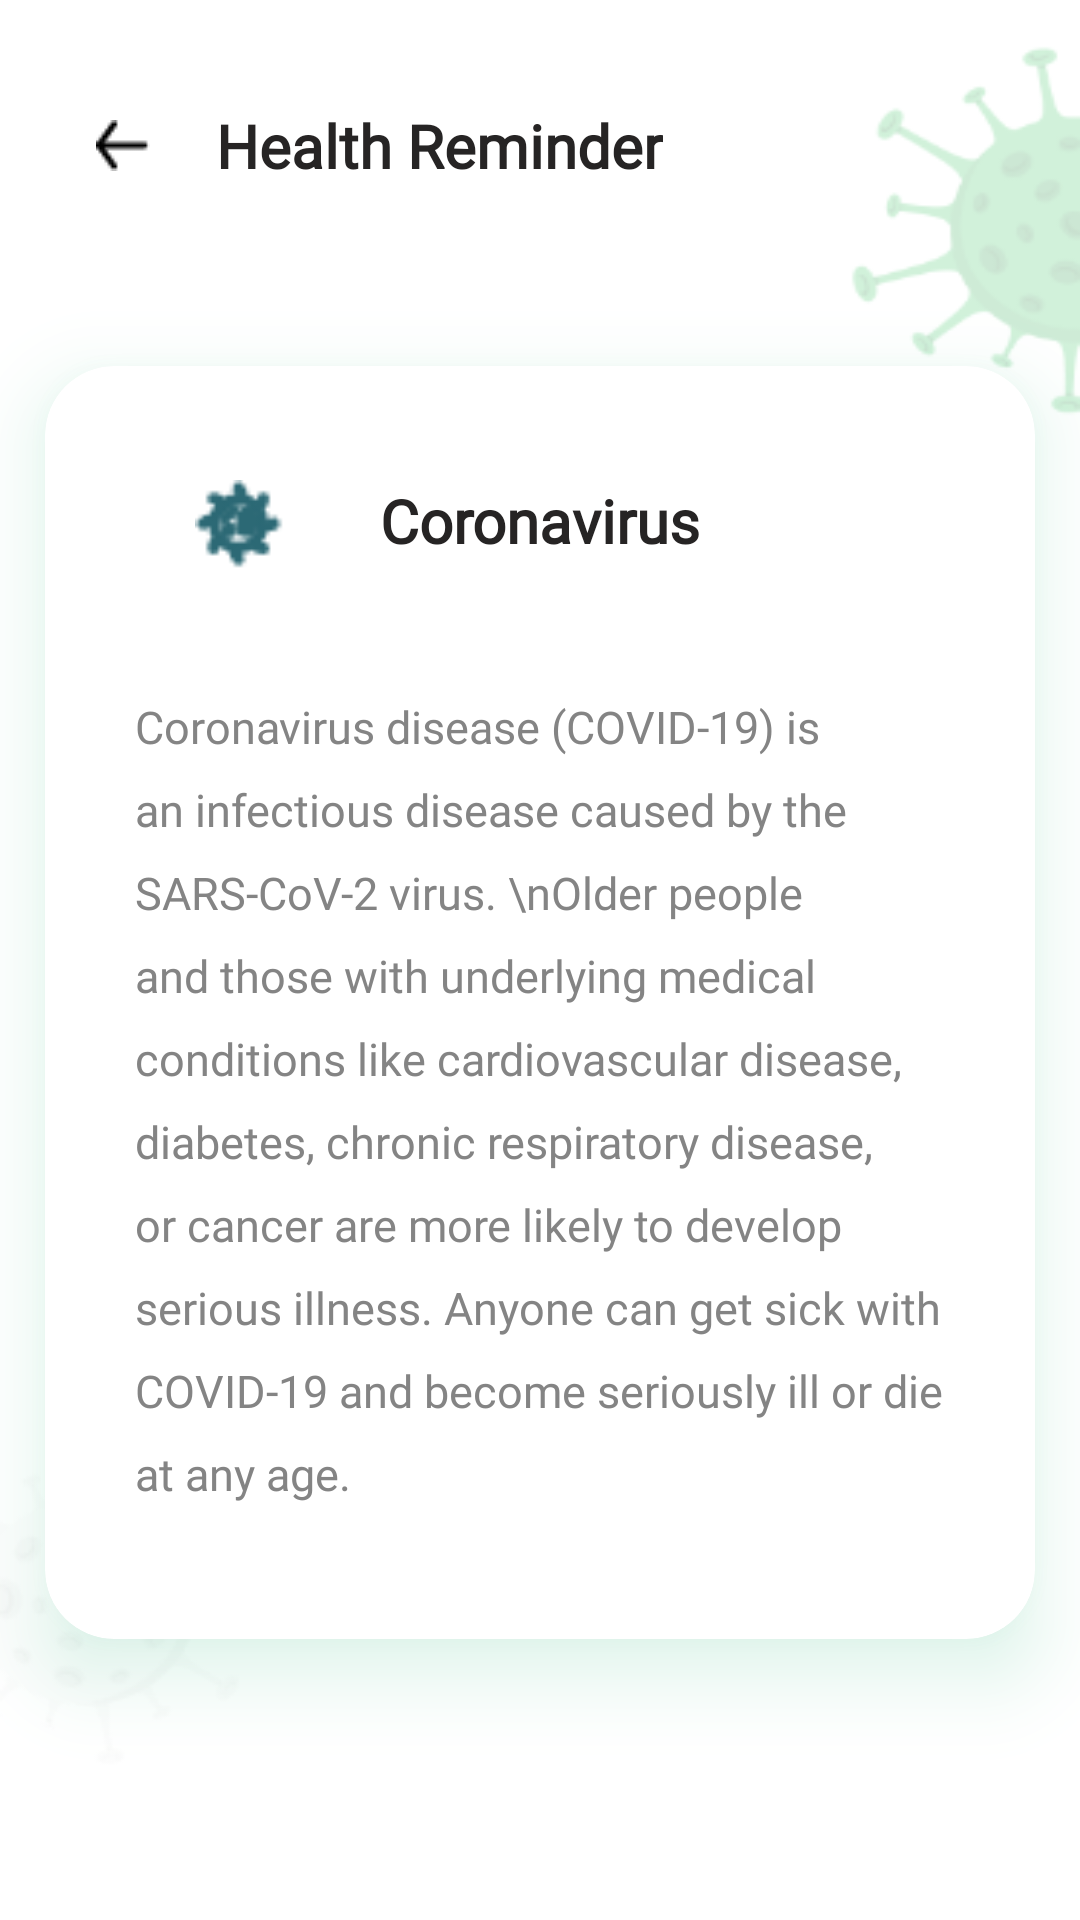

Where to tap for icons on this 1080 x 1920 app screen, as [x,y]:
back: [122,145]
